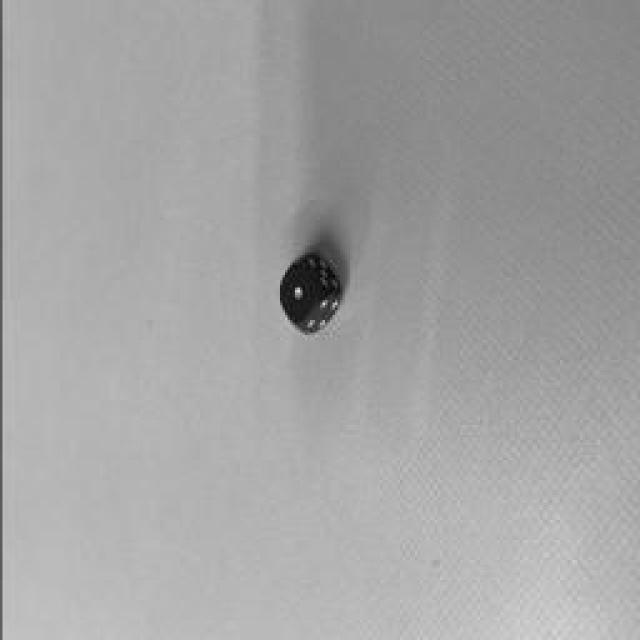dice_1: (279, 261, 316, 324)
